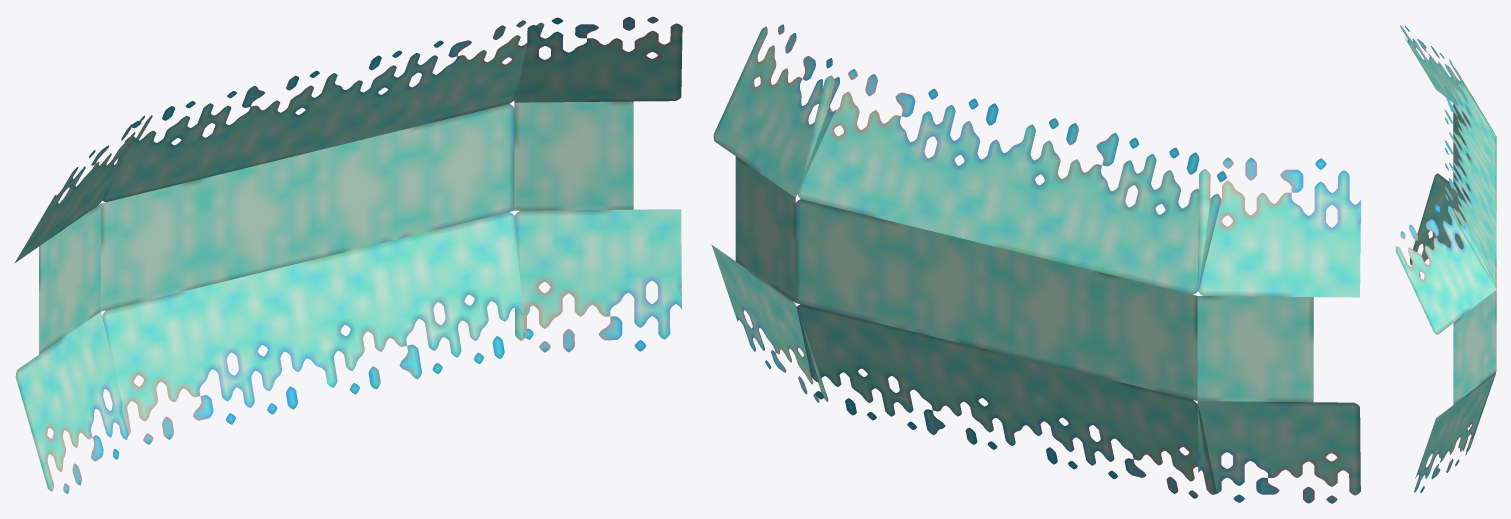
The model's file is aetherwave.obj.
3 renders of one model, left to right at view 1: azimuth 30°, elevation 25°; view 2: azimuth 150°, elevation 25°; view 3: azimuth 270°, elevation 25°, orthographic. The views are drawn at different scales.
Visible parts, largest first — view 1: Base; view 2: Base; view 3: Base.
Boxes of the visible parts, x1,y1,x2,y2 form: Base: (14,16,682,493); Base: (711,24,1360,503); Base: (1395,25,1496,492).
Bounding box in the file's own units: 2.02 × 0.9975 × 0.3681.
